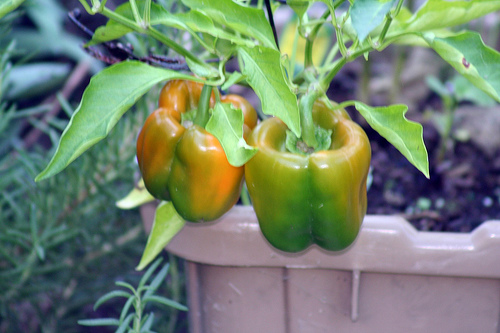capsicum: (247, 103, 371, 252), (135, 77, 258, 222)
